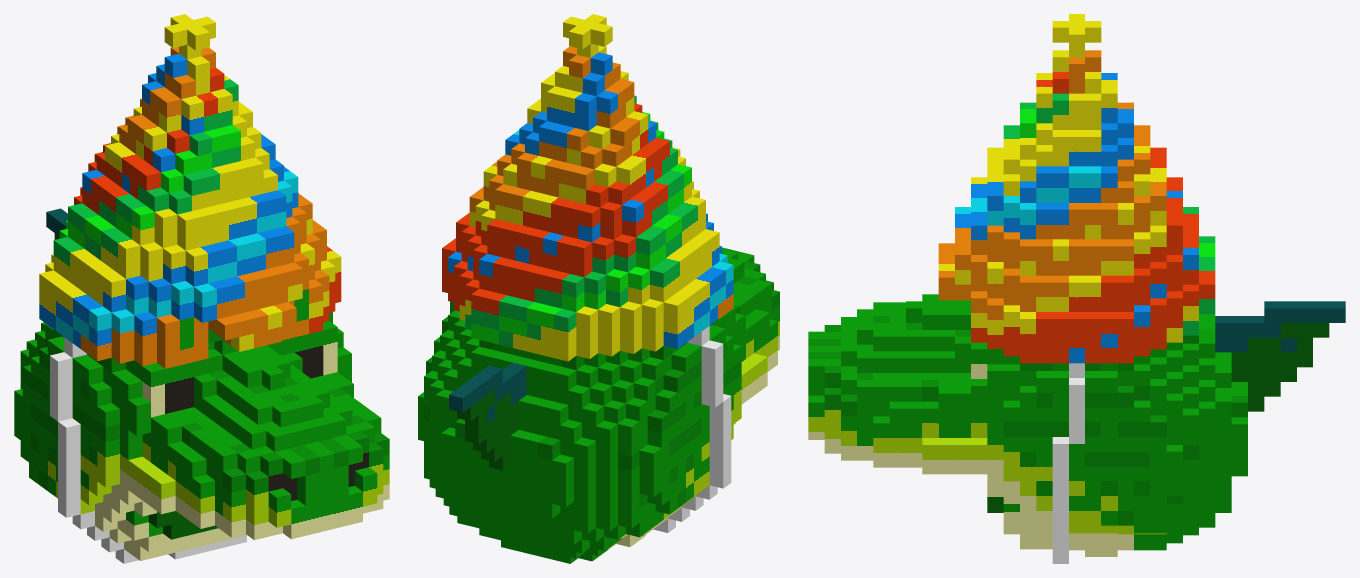
Rendered from birthday hat_red glasses.gltf.
3 views of the same model, side by side, from view 1: azimuth 30°, elevation 25°; view 2: azimuth 150°, elevation 25°; view 3: azimuth 270°, elevation 25° (orthographic). The views are drawn at different scales.
Visible parts, largest first — view 1: C05_H_BirthdayH_RedGlasses-Mesh; view 2: C05_H_BirthdayH_RedGlasses-Mesh; view 3: C05_H_BirthdayH_RedGlasses-Mesh.
Part boxes in pixels (x1=…): C05_H_BirthdayH_RedGlasses-Mesh: x1=14, y1=14, x2=389, y2=563; C05_H_BirthdayH_RedGlasses-Mesh: x1=418, y1=14, x2=779, y2=563; C05_H_BirthdayH_RedGlasses-Mesh: x1=808, y1=14, x2=1345, y2=563.
Bounding box in the file's own units: 19 × 34 × 33.
1 material, 1 textured.
